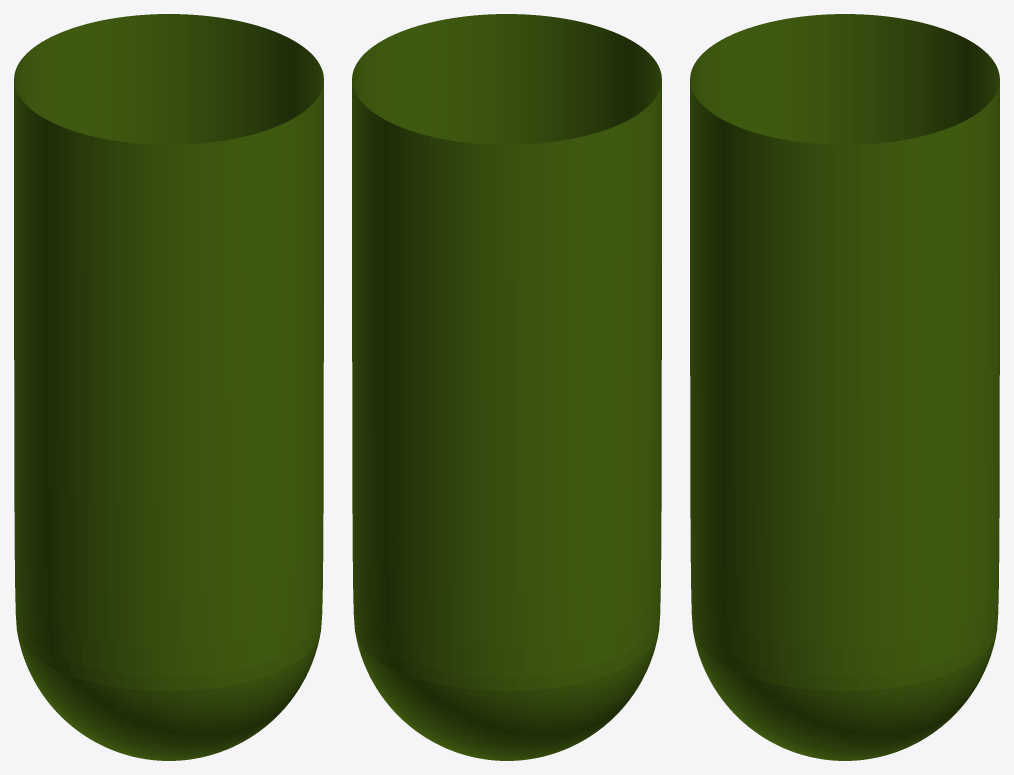
Rendered from android_foot.obj.
The picture shows the model from 3 angles, left to right: view 1: azimuth 30°, elevation 25°; view 2: azimuth 150°, elevation 25°; view 3: azimuth 270°, elevation 25°; orthographic projection.
Parts seen in each view (by area): view 1: noha_prava_Sphere.002; view 2: noha_prava_Sphere.002; view 3: noha_prava_Sphere.002.
Part boxes in pixels (box(x1,y1,x2,y2)): noha_prava_Sphere.002: box(14, 14, 323, 760); noha_prava_Sphere.002: box(352, 14, 661, 760); noha_prava_Sphere.002: box(690, 14, 999, 760).
Bounding box in the file's own units: 0.4481 × 1.07 × 0.4481.
